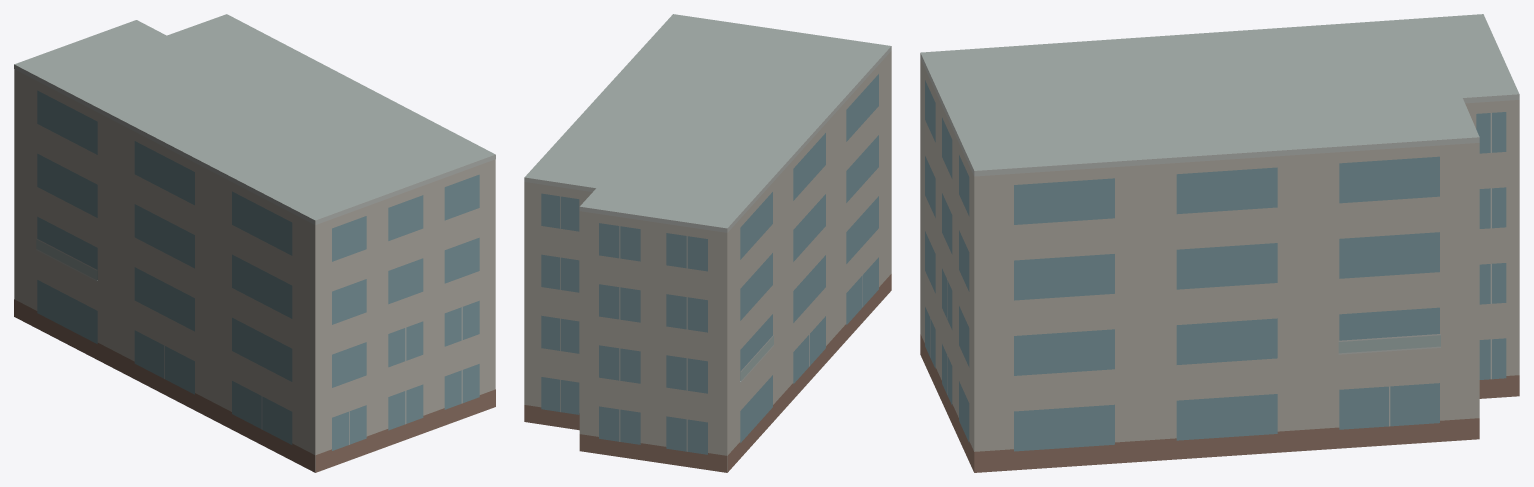
File: survey-upis-32705562.glb
3 views of the same model, side by side, from view 1: azimuth 30°, elevation 25°; view 2: azimuth 150°, elevation 25°; view 3: azimuth 270°, elevation 25° (orthographic). The views are drawn at different scales.
Parts seen in each view (by area): view 1: survey-upis-32705562.tmp; view 2: survey-upis-32705562.tmp; view 3: survey-upis-32705562.tmp.
Boxes of the visible parts, <box> form: survey-upis-32705562.tmp: <box>14,14,495,472</box>; survey-upis-32705562.tmp: <box>524,14,891,472</box>; survey-upis-32705562.tmp: <box>920,14,1519,472</box>.
Bounding box in the file's own units: 14.81 × 13.27 × 23.88.
